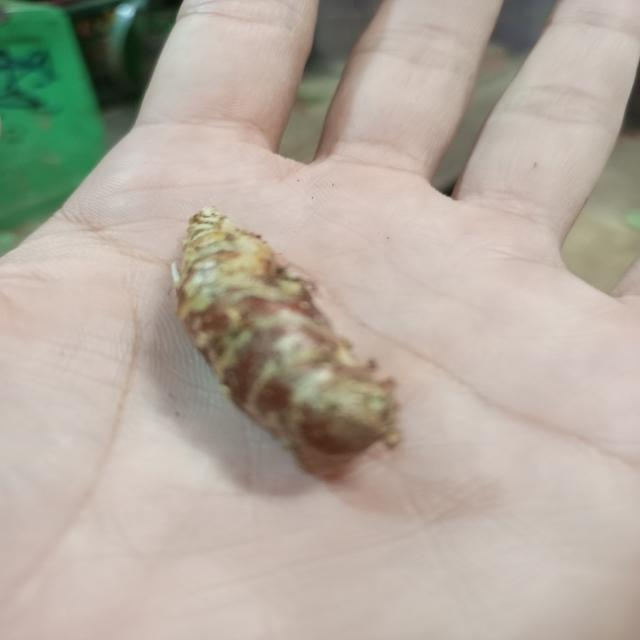ginger: (184, 206, 396, 468)
